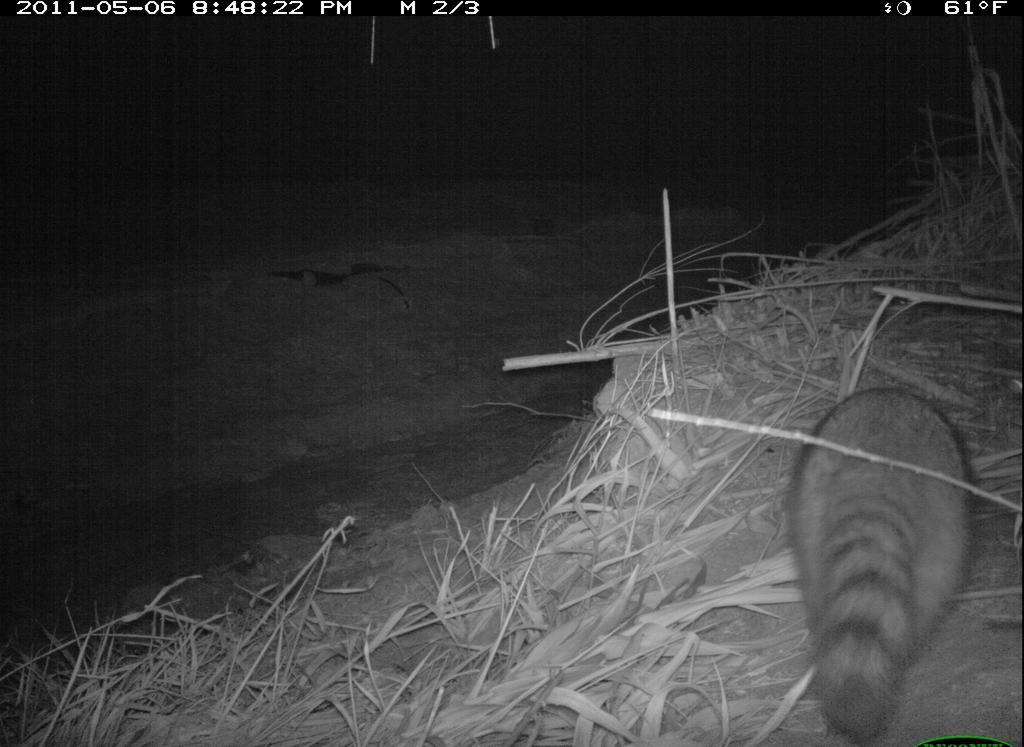raccoon: (777, 370, 1005, 744)
